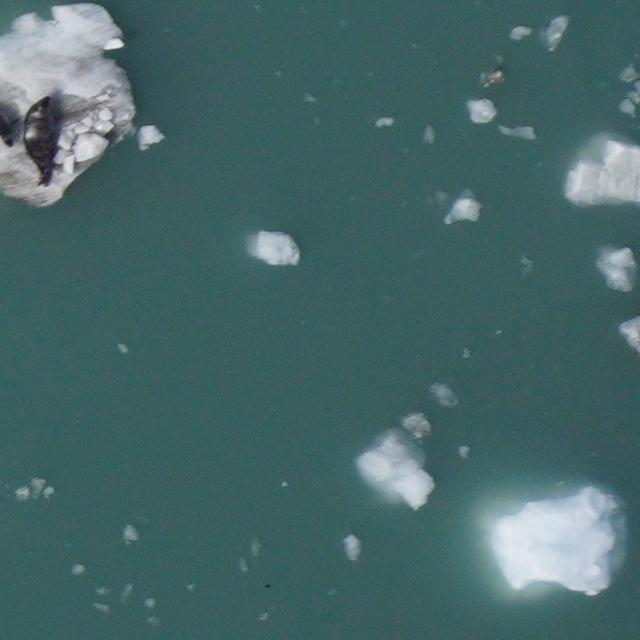seal: (18, 93, 60, 191), (0, 99, 26, 150)
